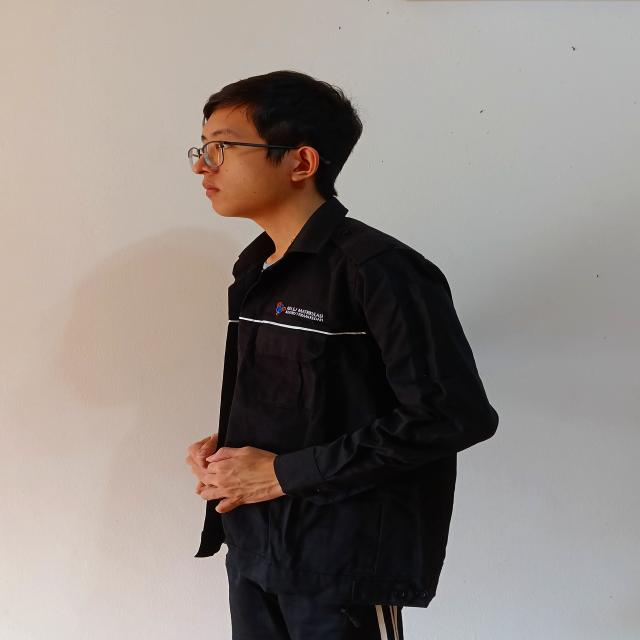person_with_labcoat: (188, 71, 498, 640)
